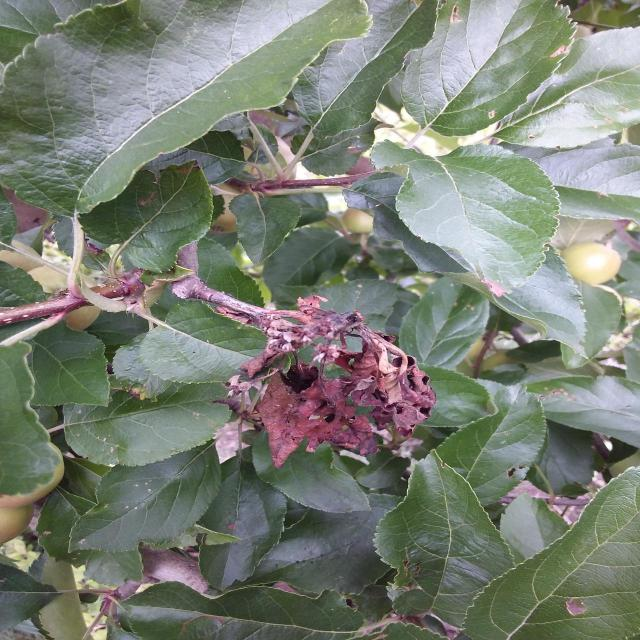-FireBlight-: (226, 304, 429, 454)
